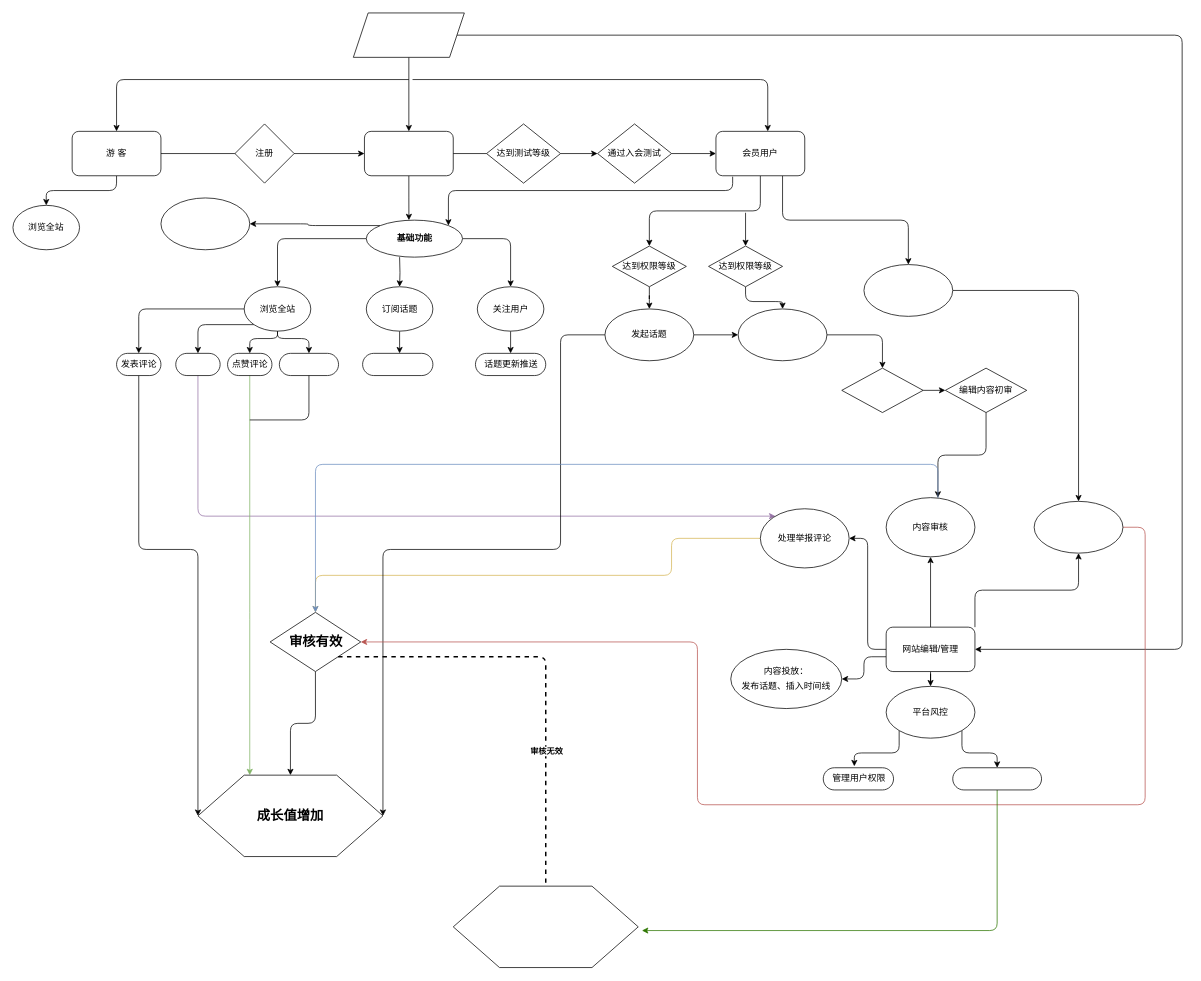
Some shapes in this 1201 by 981 pixel diagram are drawn without their labels. The box of each missing label's shape, as (x1, y1, x2, y2) in pixels:
个人空间设置: (160, 197, 250, 250)
举报评论: (175, 353, 220, 376)
举报话题/结点: (863, 264, 953, 316)
分享话题链接: (279, 353, 339, 376)
处理举报话题: (1033, 501, 1123, 553)
成长值减少: (453, 885, 638, 968)
插入时间节点: (737, 308, 827, 361)
时间线更新推送: (362, 353, 433, 376)
普通用户: (364, 131, 453, 176)
紧急删除/锁定话题: (952, 767, 1042, 790)
自动审核: (841, 367, 923, 413)
进入网站: (353, 12, 464, 57)
